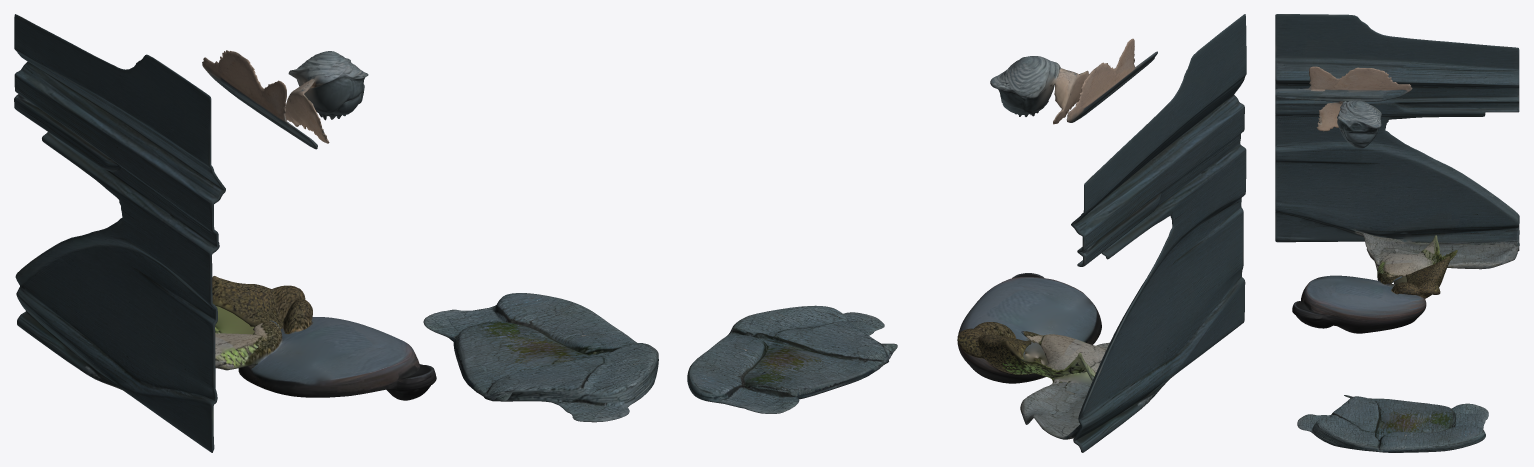
The model's file is post_apocalyptic_city_block.glb.
The picture shows the model from 3 angles, left to right: view 1: azimuth 30°, elevation 25°; view 2: azimuth 150°, elevation 25°; view 3: azimuth 270°, elevation 25°; orthographic projection. The views are drawn at different scales.
Parts seen in each view (by area): view 1: node_0; view 2: node_0; view 3: node_0.
Boxes of the visible parts, bbox=[...] form: node_0: bbox=[14, 14, 658, 452]; node_0: bbox=[687, 14, 1246, 452]; node_0: bbox=[1275, 14, 1519, 452].
Bounding box in the file's own units: 0.8467 × 0.682 × 0.5396.
1 material, 1 textured.
